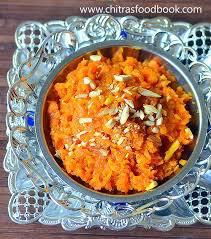Gajar ka halwa: (37, 37, 206, 199)
